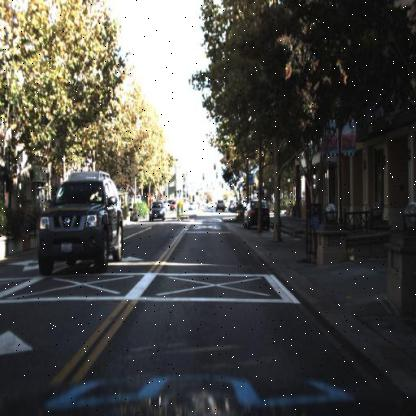car: (31, 168, 126, 277), (33, 168, 126, 273), (242, 199, 269, 232), (145, 199, 168, 224), (215, 192, 227, 213)
